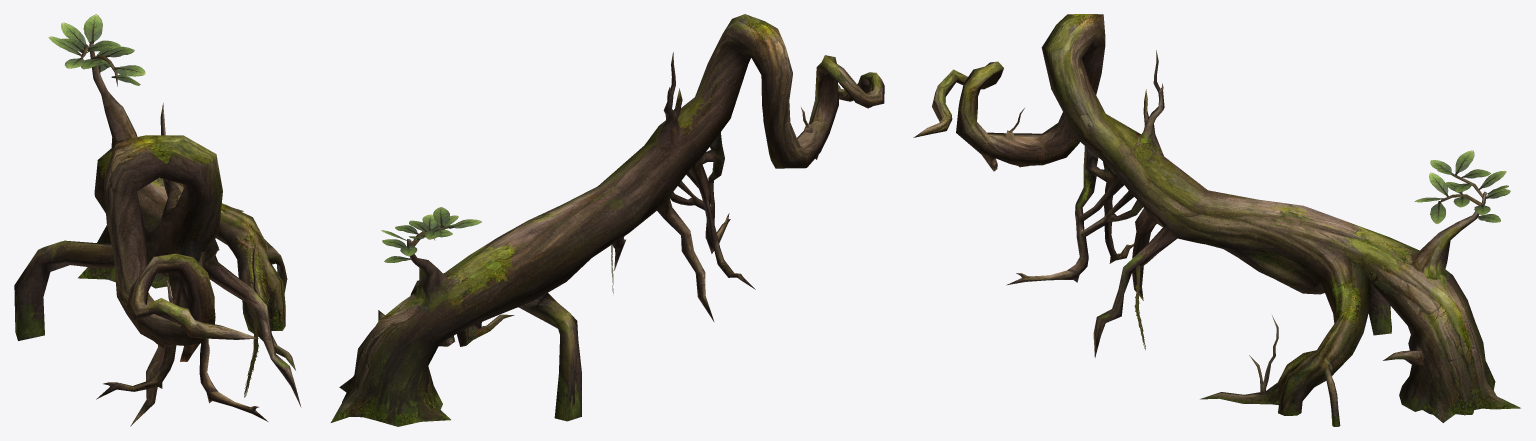
The model's file is wlf_shugeng06_w.FBX.
3 renders of one model, left to right at view 1: azimuth 30°, elevation 25°; view 2: azimuth 150°, elevation 25°; view 3: azimuth 270°, elevation 25°, orthographic. The views are drawn at different scales.
Parts seen in each view (by area): view 1: wlf_shugeng06_w; view 2: wlf_shugeng06_w; view 3: wlf_shugeng06_w.
Boxes of the visible parts, left/top/right/bottom form: wlf_shugeng06_w: left=14, top=14, right=301, bottom=426; wlf_shugeng06_w: left=331, top=14, right=884, bottom=426; wlf_shugeng06_w: left=913, top=14, right=1520, bottom=426.
Bounding box in the file's own units: 71.5 × 63.83 × 119.
